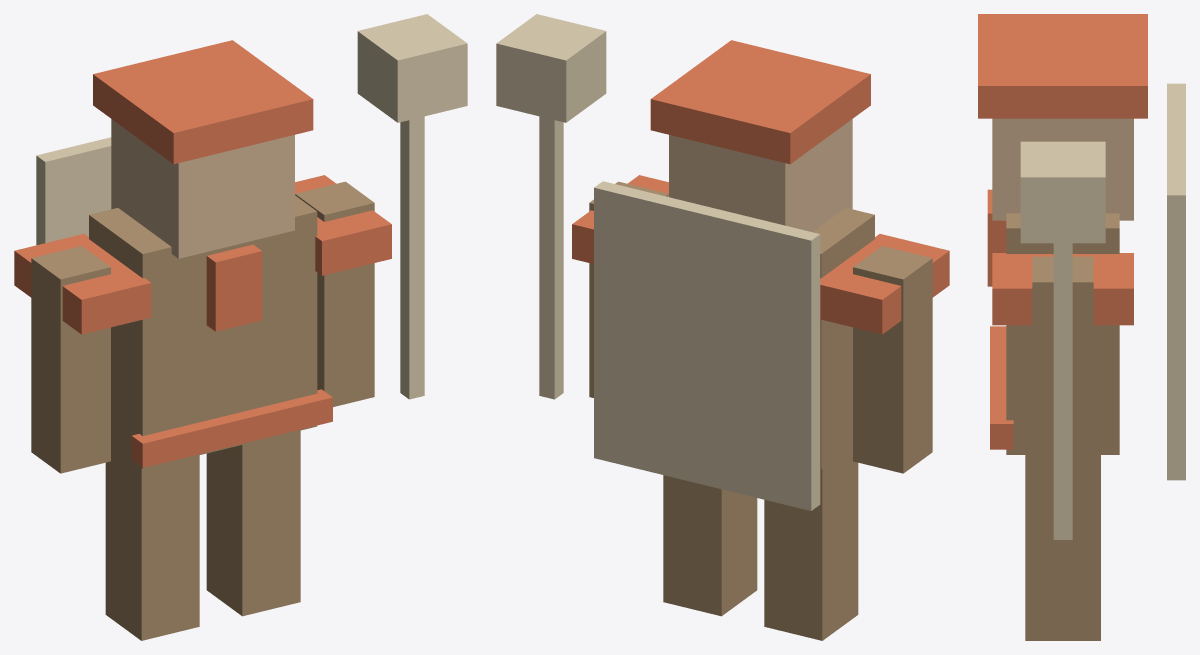
Rendered from 06_keir_nullborne_oracle_under_lexicon.glb.
The picture shows the model from 3 angles, left to right: view 1: azimuth 30°, elevation 25°; view 2: azimuth 150°, elevation 25°; view 3: azimuth 270°, elevation 25°; orthographic projection. The views are drawn at different scales.
Visible parts, largest first — view 1: Keir Nullborne, Oracle under Lexicon; view 2: Keir Nullborne, Oracle under Lexicon; view 3: Keir Nullborne, Oracle under Lexicon.
Boxes of the visible parts, <box> form: Keir Nullborne, Oracle under Lexicon: <box>14,14,467,640</box>; Keir Nullborne, Oracle under Lexicon: <box>496,14,949,640</box>; Keir Nullborne, Oracle under Lexicon: <box>978,14,1185,640</box>.
Bounding box in the file's own units: 1.13 × 1.41 × 0.4811.
